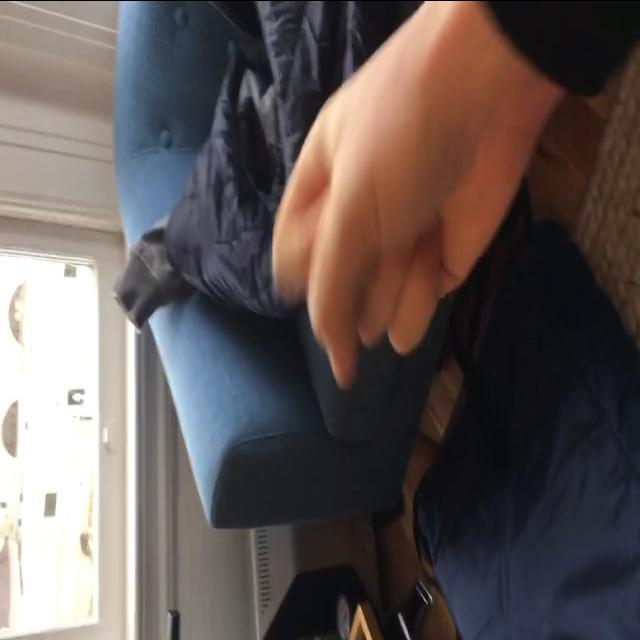Rock: (272, 29, 530, 388)
